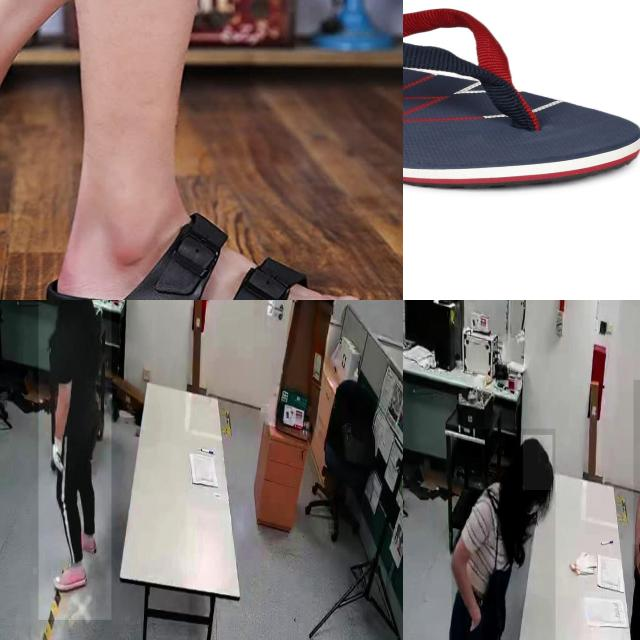Sandals: (403, 3, 640, 192), (43, 202, 374, 300)
hand_glove: (48, 437, 68, 483)
hand_noglove: (465, 609, 482, 640), (632, 544, 640, 579)
head_nohelmet: (523, 435, 553, 491)
person: (38, 300, 111, 620), (451, 428, 556, 640)
shoes: (52, 558, 92, 594), (78, 524, 97, 559)
